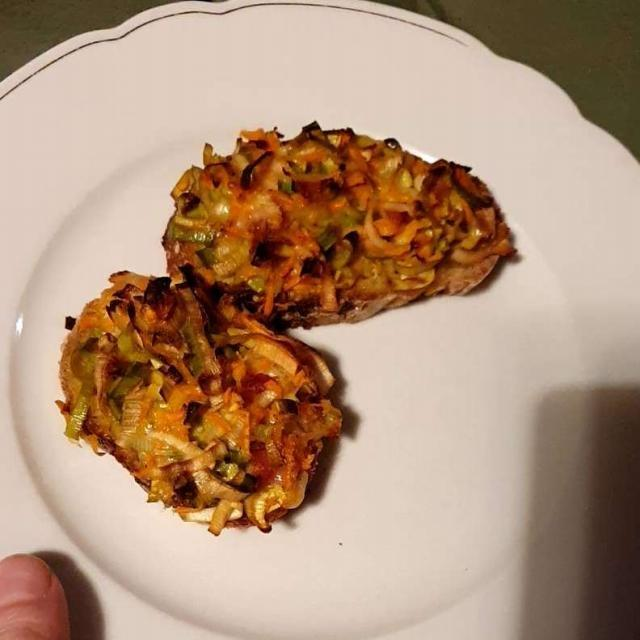bread: (67, 129, 509, 524)
mixed-vegetables: (75, 149, 464, 515)
